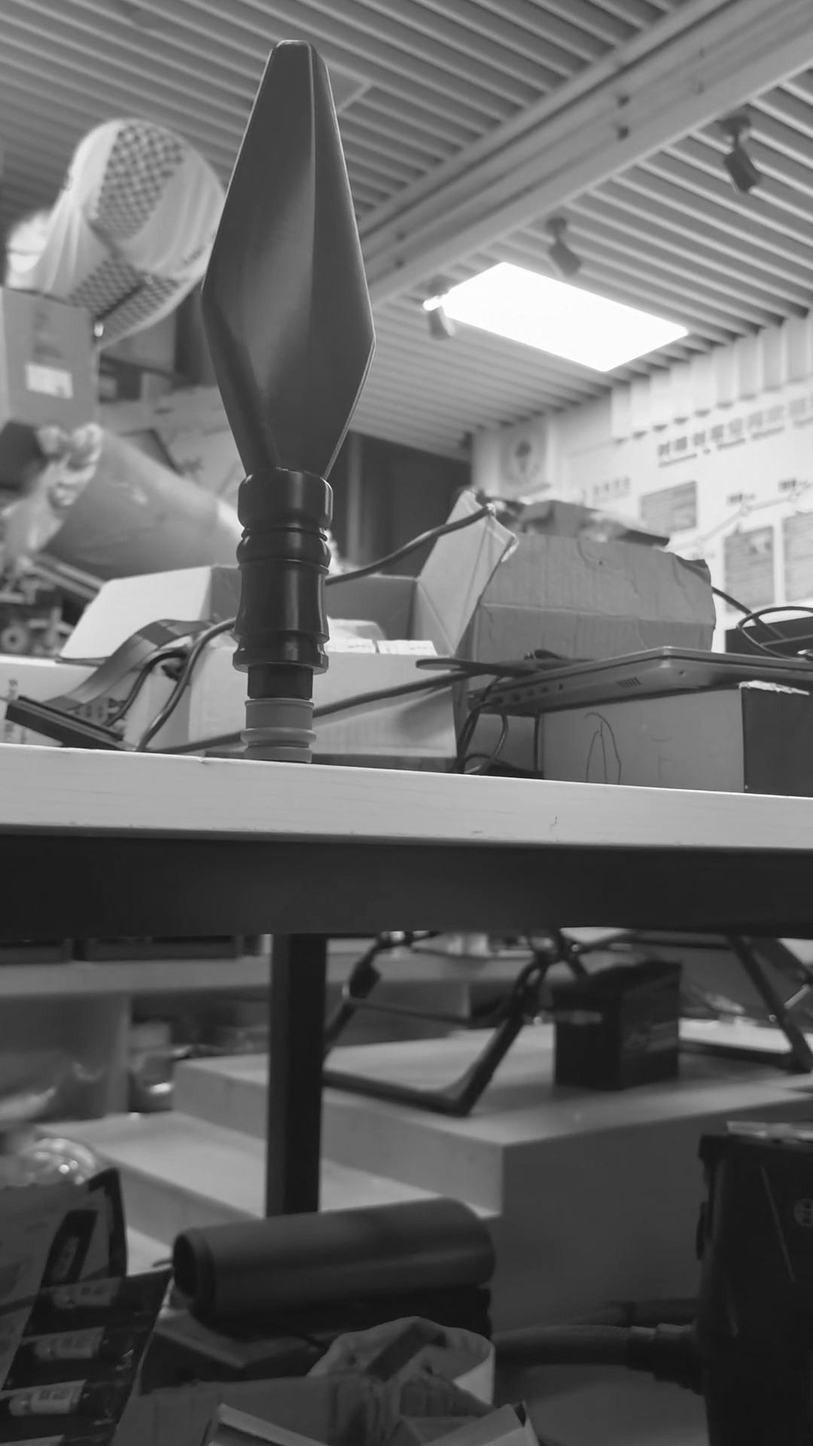base: (243, 693, 316, 769)
